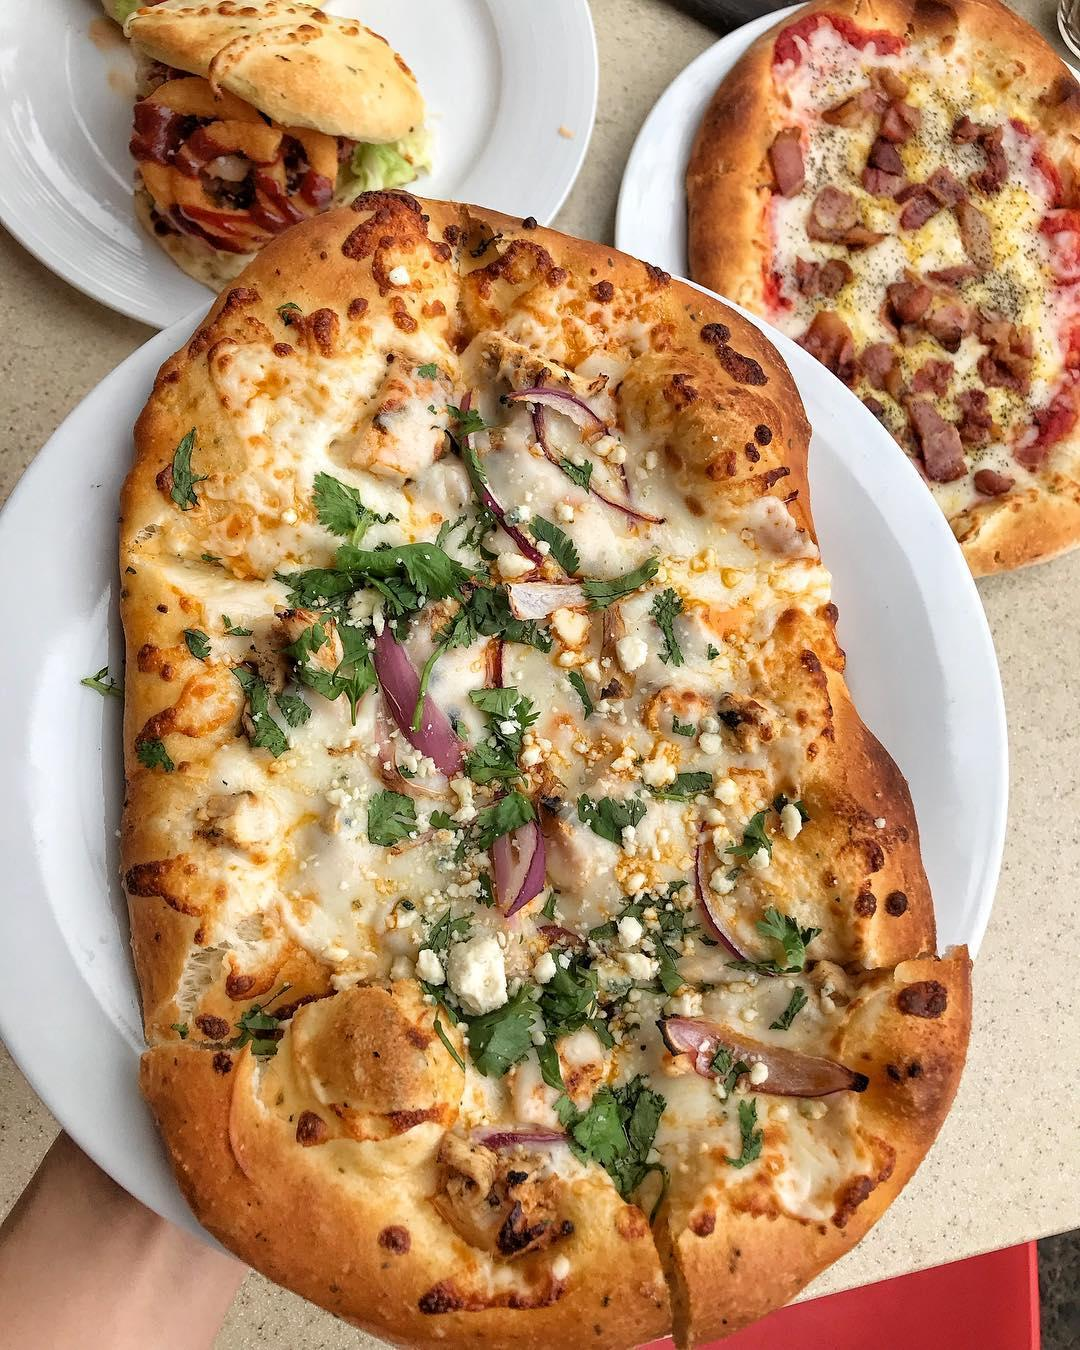Ham: (864, 67, 907, 191), (891, 280, 965, 348), (981, 307, 1032, 388), (914, 402, 965, 477), (807, 191, 876, 243), (812, 312, 854, 384), (772, 131, 805, 195), (974, 146, 1006, 193), (952, 118, 1003, 146)
Onion: (659, 1016, 861, 1099), (372, 630, 466, 775), (556, 457, 665, 526), (458, 389, 505, 534), (494, 817, 547, 919), (513, 386, 610, 431), (692, 820, 712, 918)
Pizza: (122, 191, 965, 1350), (690, 0, 1080, 579)
